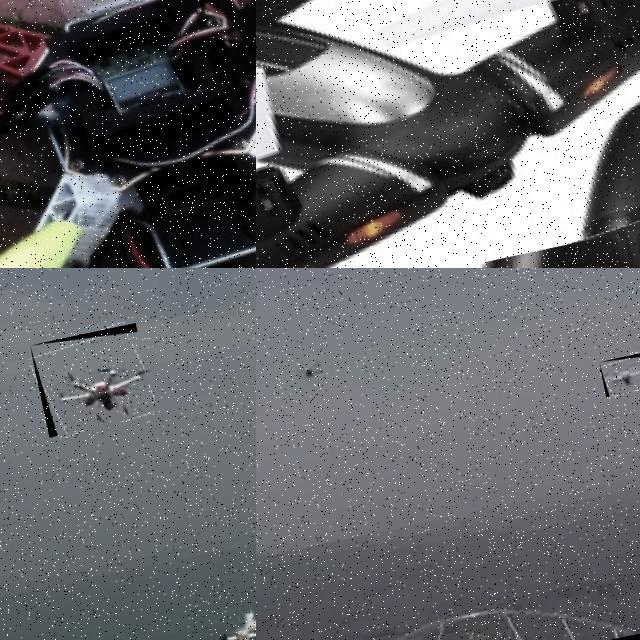0: (29, 322, 154, 437), (599, 351, 640, 396)
drone: (256, 0, 640, 268), (0, 0, 256, 268)
